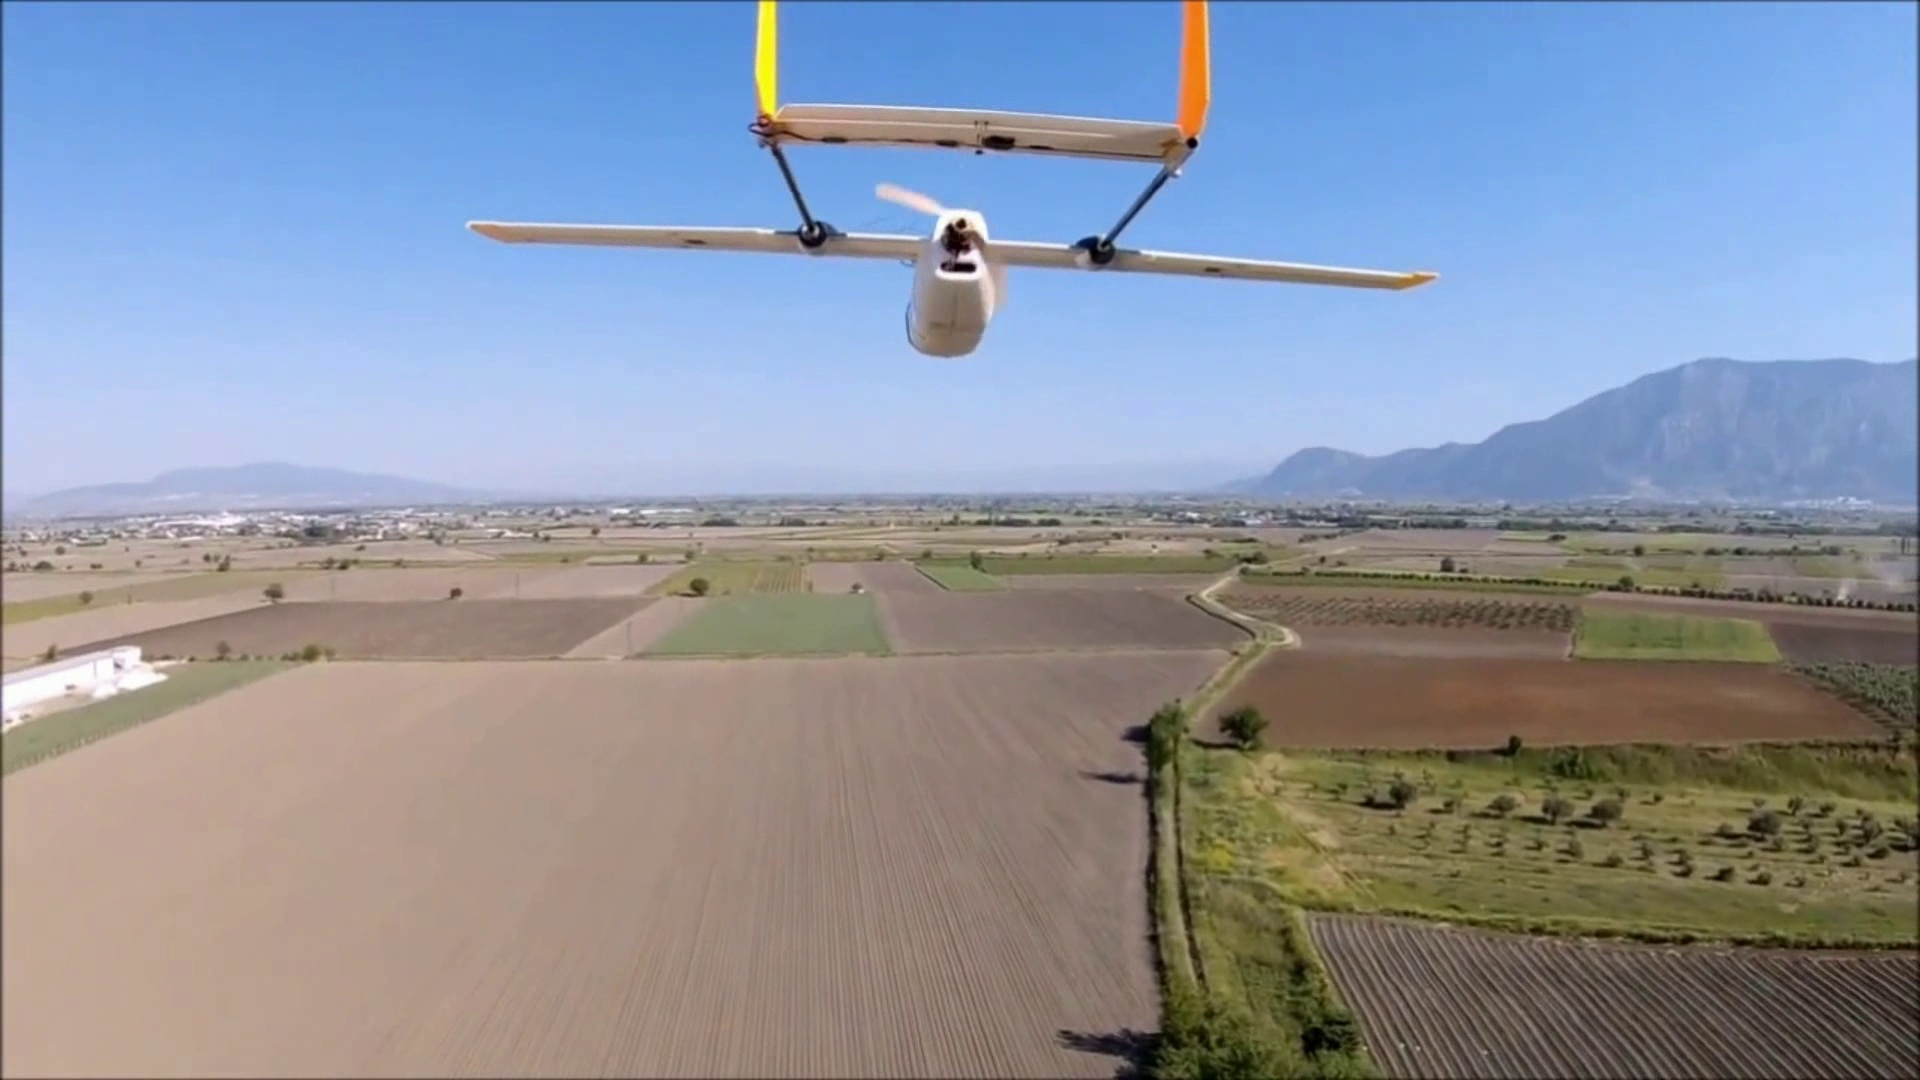airplane: (469, 7, 1437, 359)
